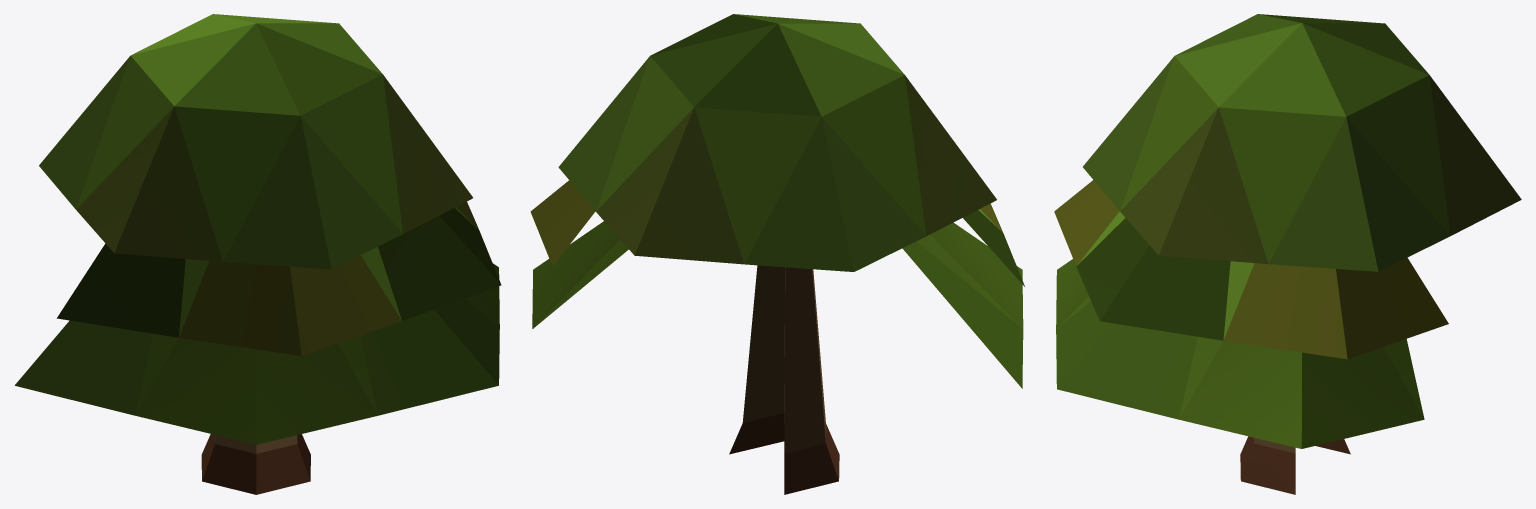
File: forest07.fbx
3 views of the same model, side by side, from view 1: azimuth 30°, elevation 25°; view 2: azimuth 150°, elevation 25°; view 3: azimuth 270°, elevation 25° (orthographic).
Visible parts, largest first — view 1: forest07; view 2: forest07; view 3: forest07.
Boxes of the visible parts, left/top/right/bottom form: forest07: left=15, top=14, right=501, bottom=494; forest07: left=530, top=14, right=1024, bottom=494; forest07: left=1054, top=14, right=1521, bottom=494.
Bounding box in the file's own units: 1.41 × 1.23 × 1.17.
1 material, 1 textured.
